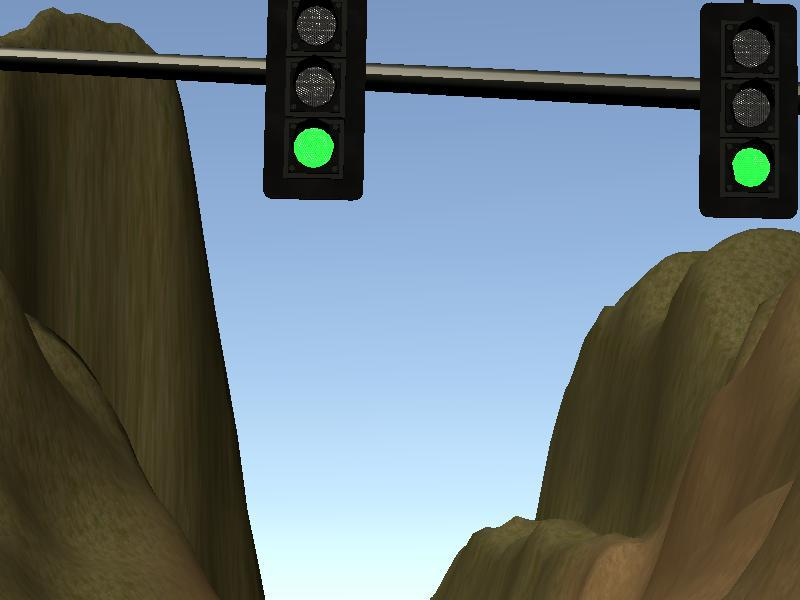Green: (701, 4, 796, 212), (269, 1, 362, 197)
